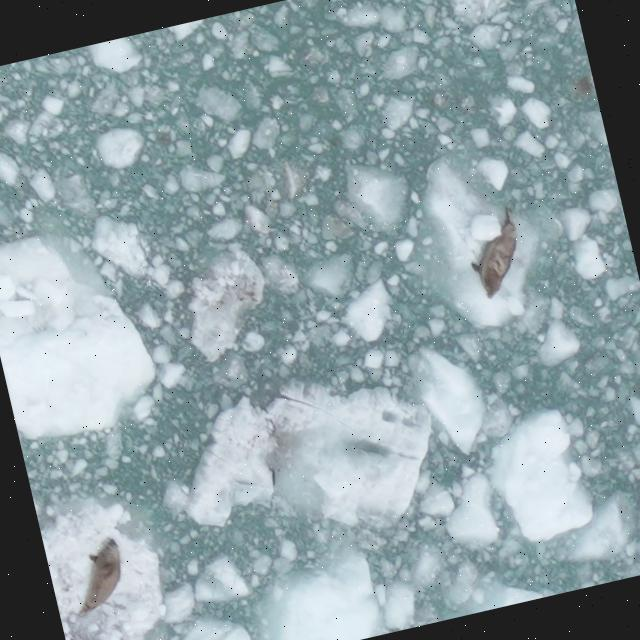seal: (456, 199, 533, 304), (58, 529, 134, 622)
